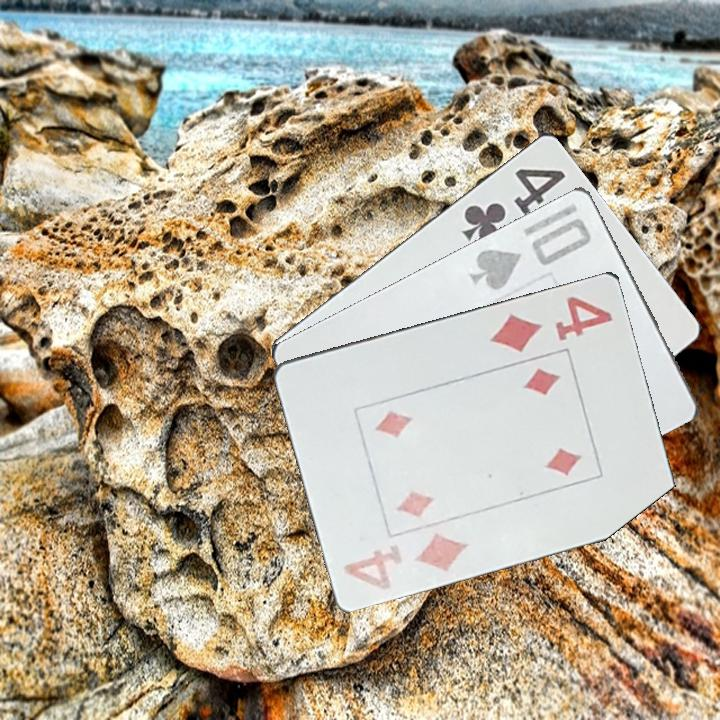4c: (458, 164, 569, 247)
4d: (340, 529, 471, 593), (486, 292, 616, 356)
Ts: (464, 213, 595, 293)
